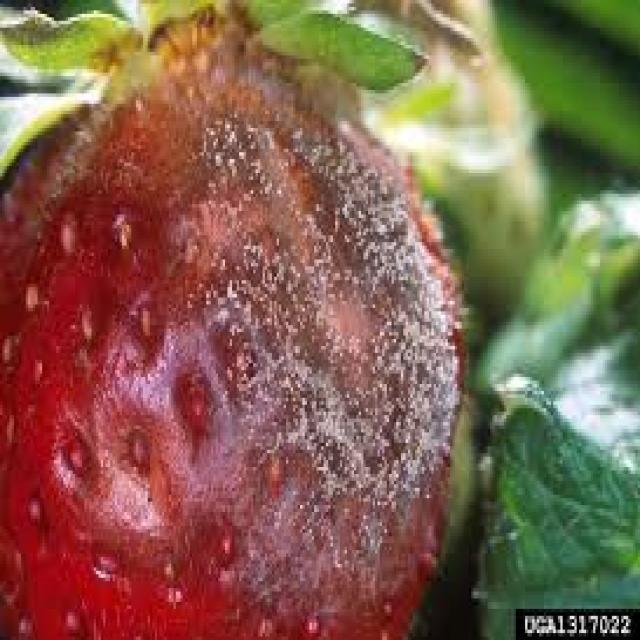Moho gris: (1, 62, 448, 628)
